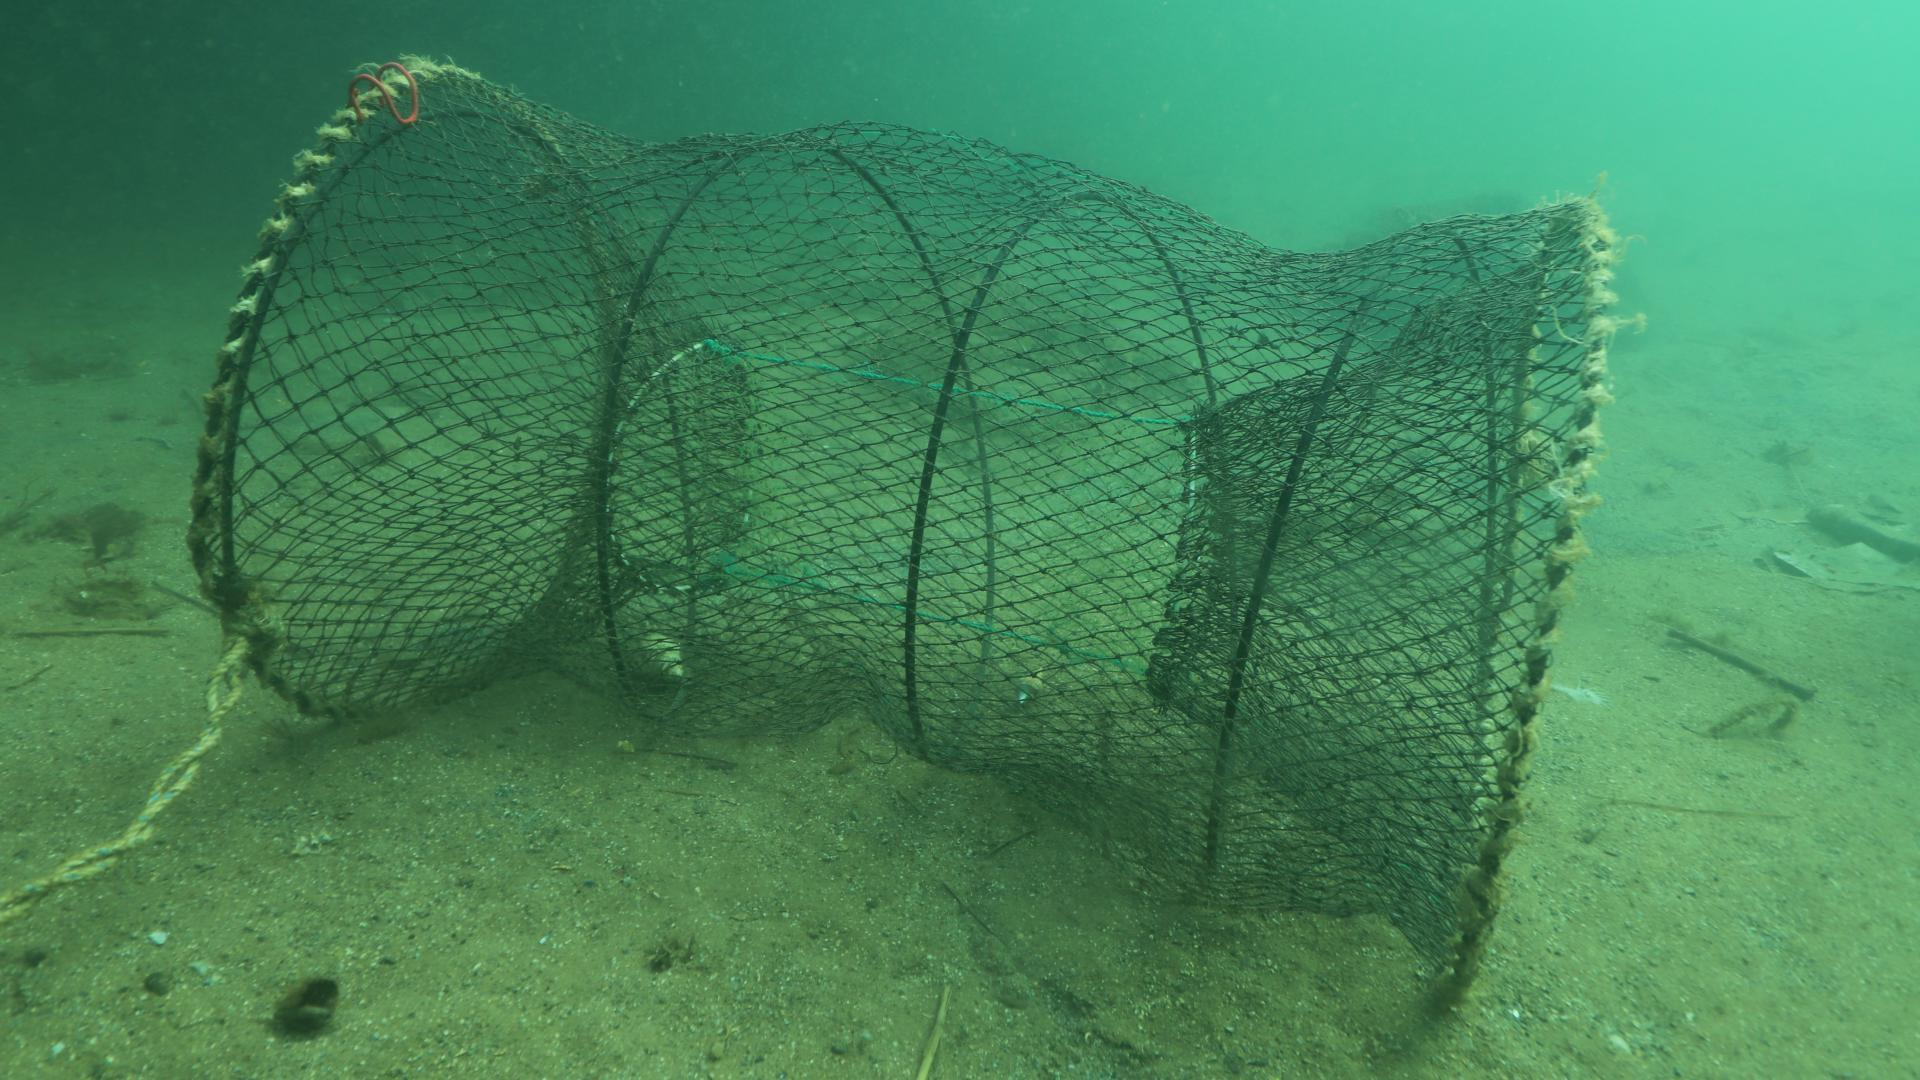bundle of ropes: (0, 642, 240, 916)
spring fish trap: (181, 50, 1606, 1002)
